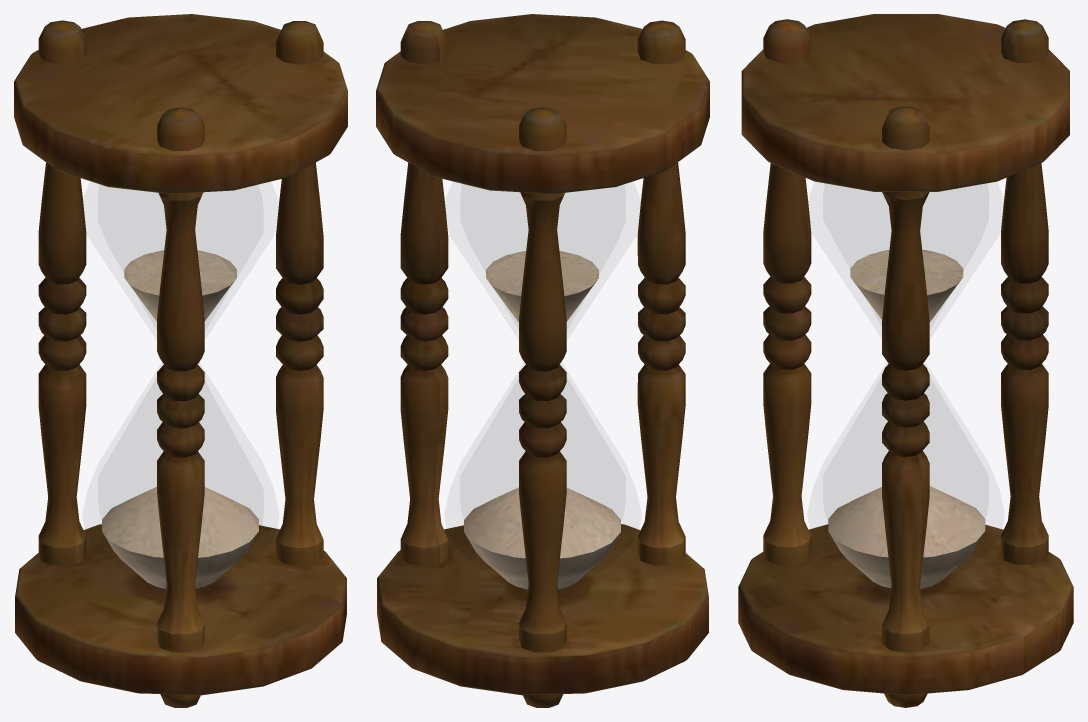
Rendered from obj_hour_glass.glb.
The picture shows the model from 3 angles, left to right: view 1: azimuth 30°, elevation 25°; view 2: azimuth 150°, elevation 25°; view 3: azimuth 270°, elevation 25°; orthographic projection.
Visible parts, largest first — view 1: SandTimer_LP_13 - Default_0; view 2: SandTimer_LP_13 - Default_0; view 3: SandTimer_LP_13 - Default_0.
Part boxes in pixels (bbox=[...]): SandTimer_LP_13 - Default_0: bbox=[14, 14, 347, 707]; SandTimer_LP_13 - Default_0: bbox=[376, 14, 709, 707]; SandTimer_LP_13 - Default_0: bbox=[738, 14, 1073, 707].
Bounding box in the file's own units: 0.1125 × 0.22 × 0.1125.
Materials: 2 (2 with a texture image).
